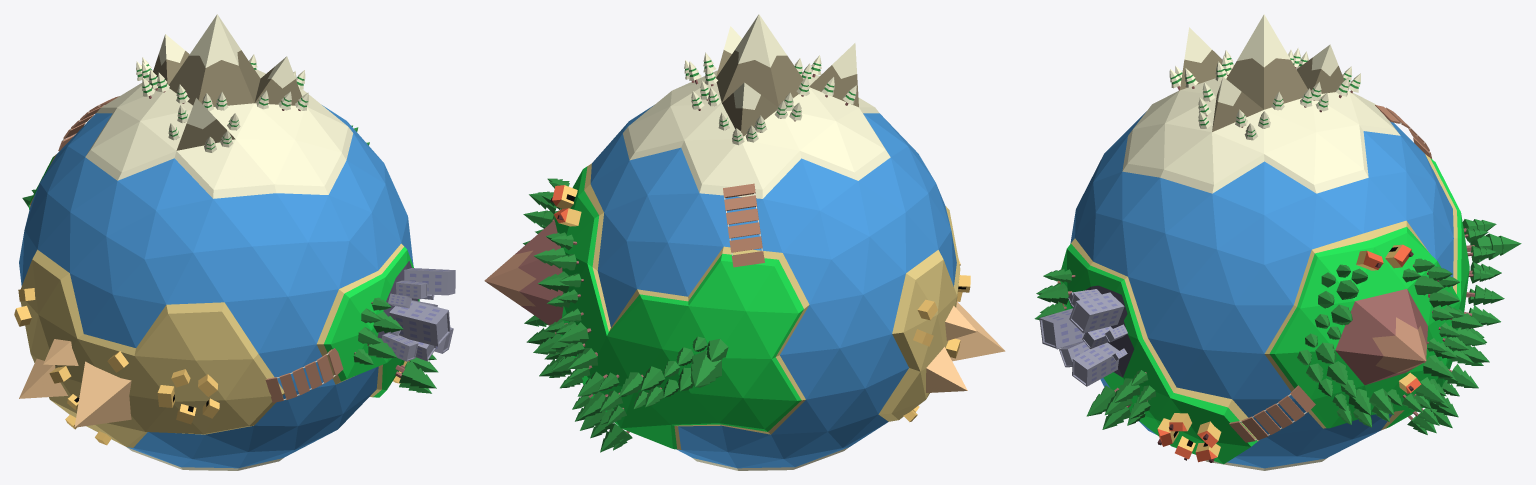
3 renders of one model, left to right at view 1: azimuth 30°, elevation 25°; view 2: azimuth 150°, elevation 25°; view 3: azimuth 270°, elevation 25°, orthographic.
Visible parts, largest first — view 1: Planet, Cone.003, Building, Cube.002, Cone.001, Building.004, Cone.002, Building.007, Cylinder.007, Building.005, Cube; view 2: Planet, Cube, Cone.001, Cone.003, Cone.236, Cone.002; view 3: Planet, Cube.001, Building.004, Building.001, Building, Cone.236, Cube.
Part boxes in pixels (bbox=[...]): Planet: bbox=[19, 14, 419, 470]; Cone.003: bbox=[74, 361, 131, 427]; Building: bbox=[389, 301, 450, 346]; Cube.002: bbox=[265, 348, 343, 402]; Cone.001: bbox=[19, 358, 67, 398]; Building.004: bbox=[404, 268, 455, 295]; Cone.002: bbox=[43, 339, 78, 365]; Building.007: bbox=[381, 333, 418, 361]; Cylinder.007: bbox=[395, 360, 436, 388]; Building.005: bbox=[396, 280, 427, 299]; Cube: bbox=[58, 96, 119, 151]; Planet: bbox=[484, 14, 960, 470]; Cube: bbox=[723, 183, 764, 267]; Cone.001: bbox=[926, 347, 967, 392]; Cone.003: bbox=[950, 301, 1005, 361]; Cone.236: bbox=[690, 350, 721, 387]; Cone.002: bbox=[945, 306, 977, 340]; Planet: bbox=[1060, 14, 1469, 470]; Cube.001: bbox=[1229, 385, 1315, 442]; Building.004: bbox=[1069, 292, 1124, 333]; Building.001: bbox=[1072, 342, 1118, 386]; Building: bbox=[1039, 308, 1084, 348]; Cone.236: bbox=[1466, 233, 1521, 263]; Cube: bbox=[1375, 105, 1431, 158].
Size of the model in its own units: 235 by 245 by 246.
